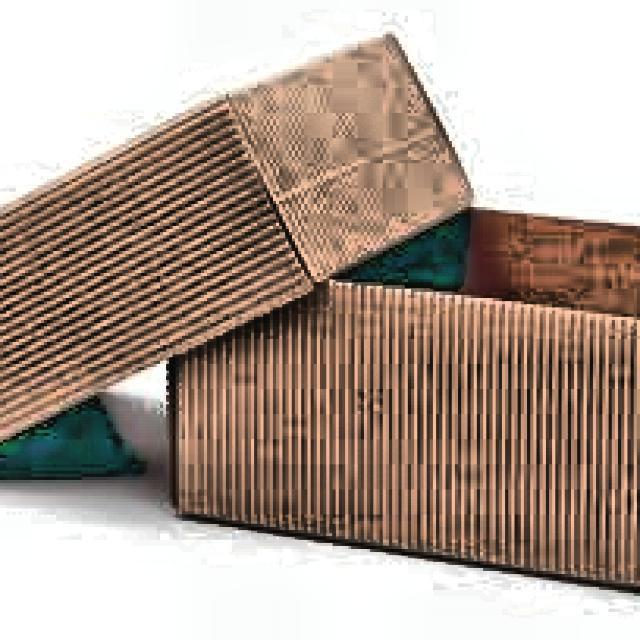cardboard: (0, 28, 477, 483), (166, 204, 640, 593)
